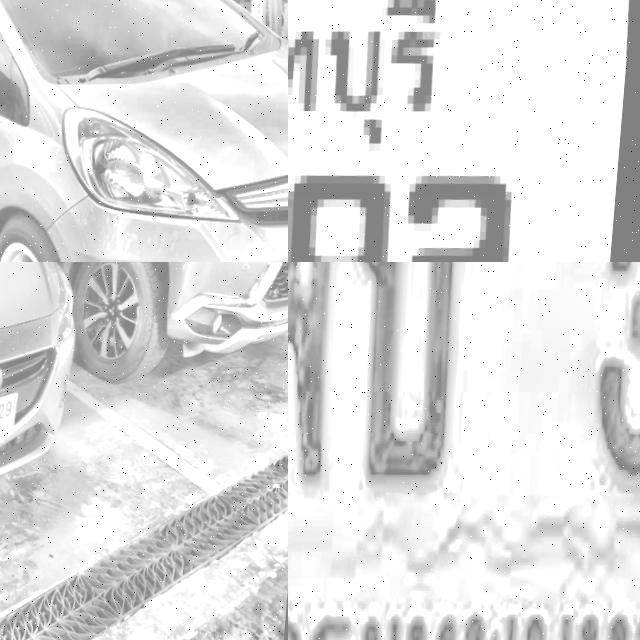license-plate: (288, 262, 640, 640), (288, 0, 640, 262), (0, 382, 28, 455)
